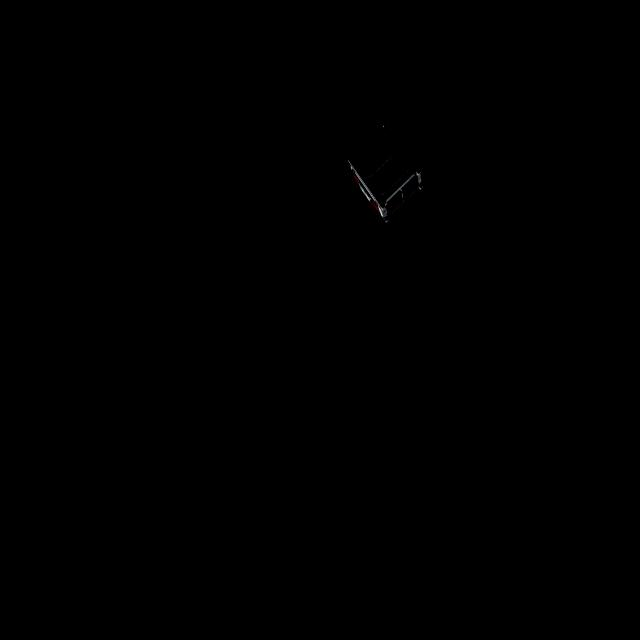medium_debris: (340, 119, 434, 225)
